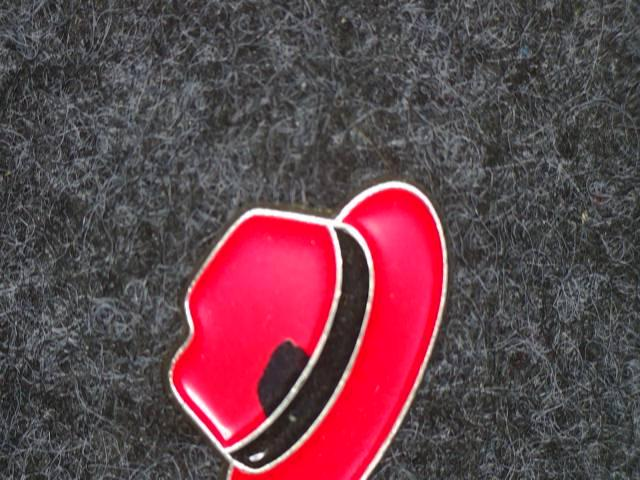Red-Hat: (121, 153, 494, 480)
Scratch: (241, 318, 332, 434)
